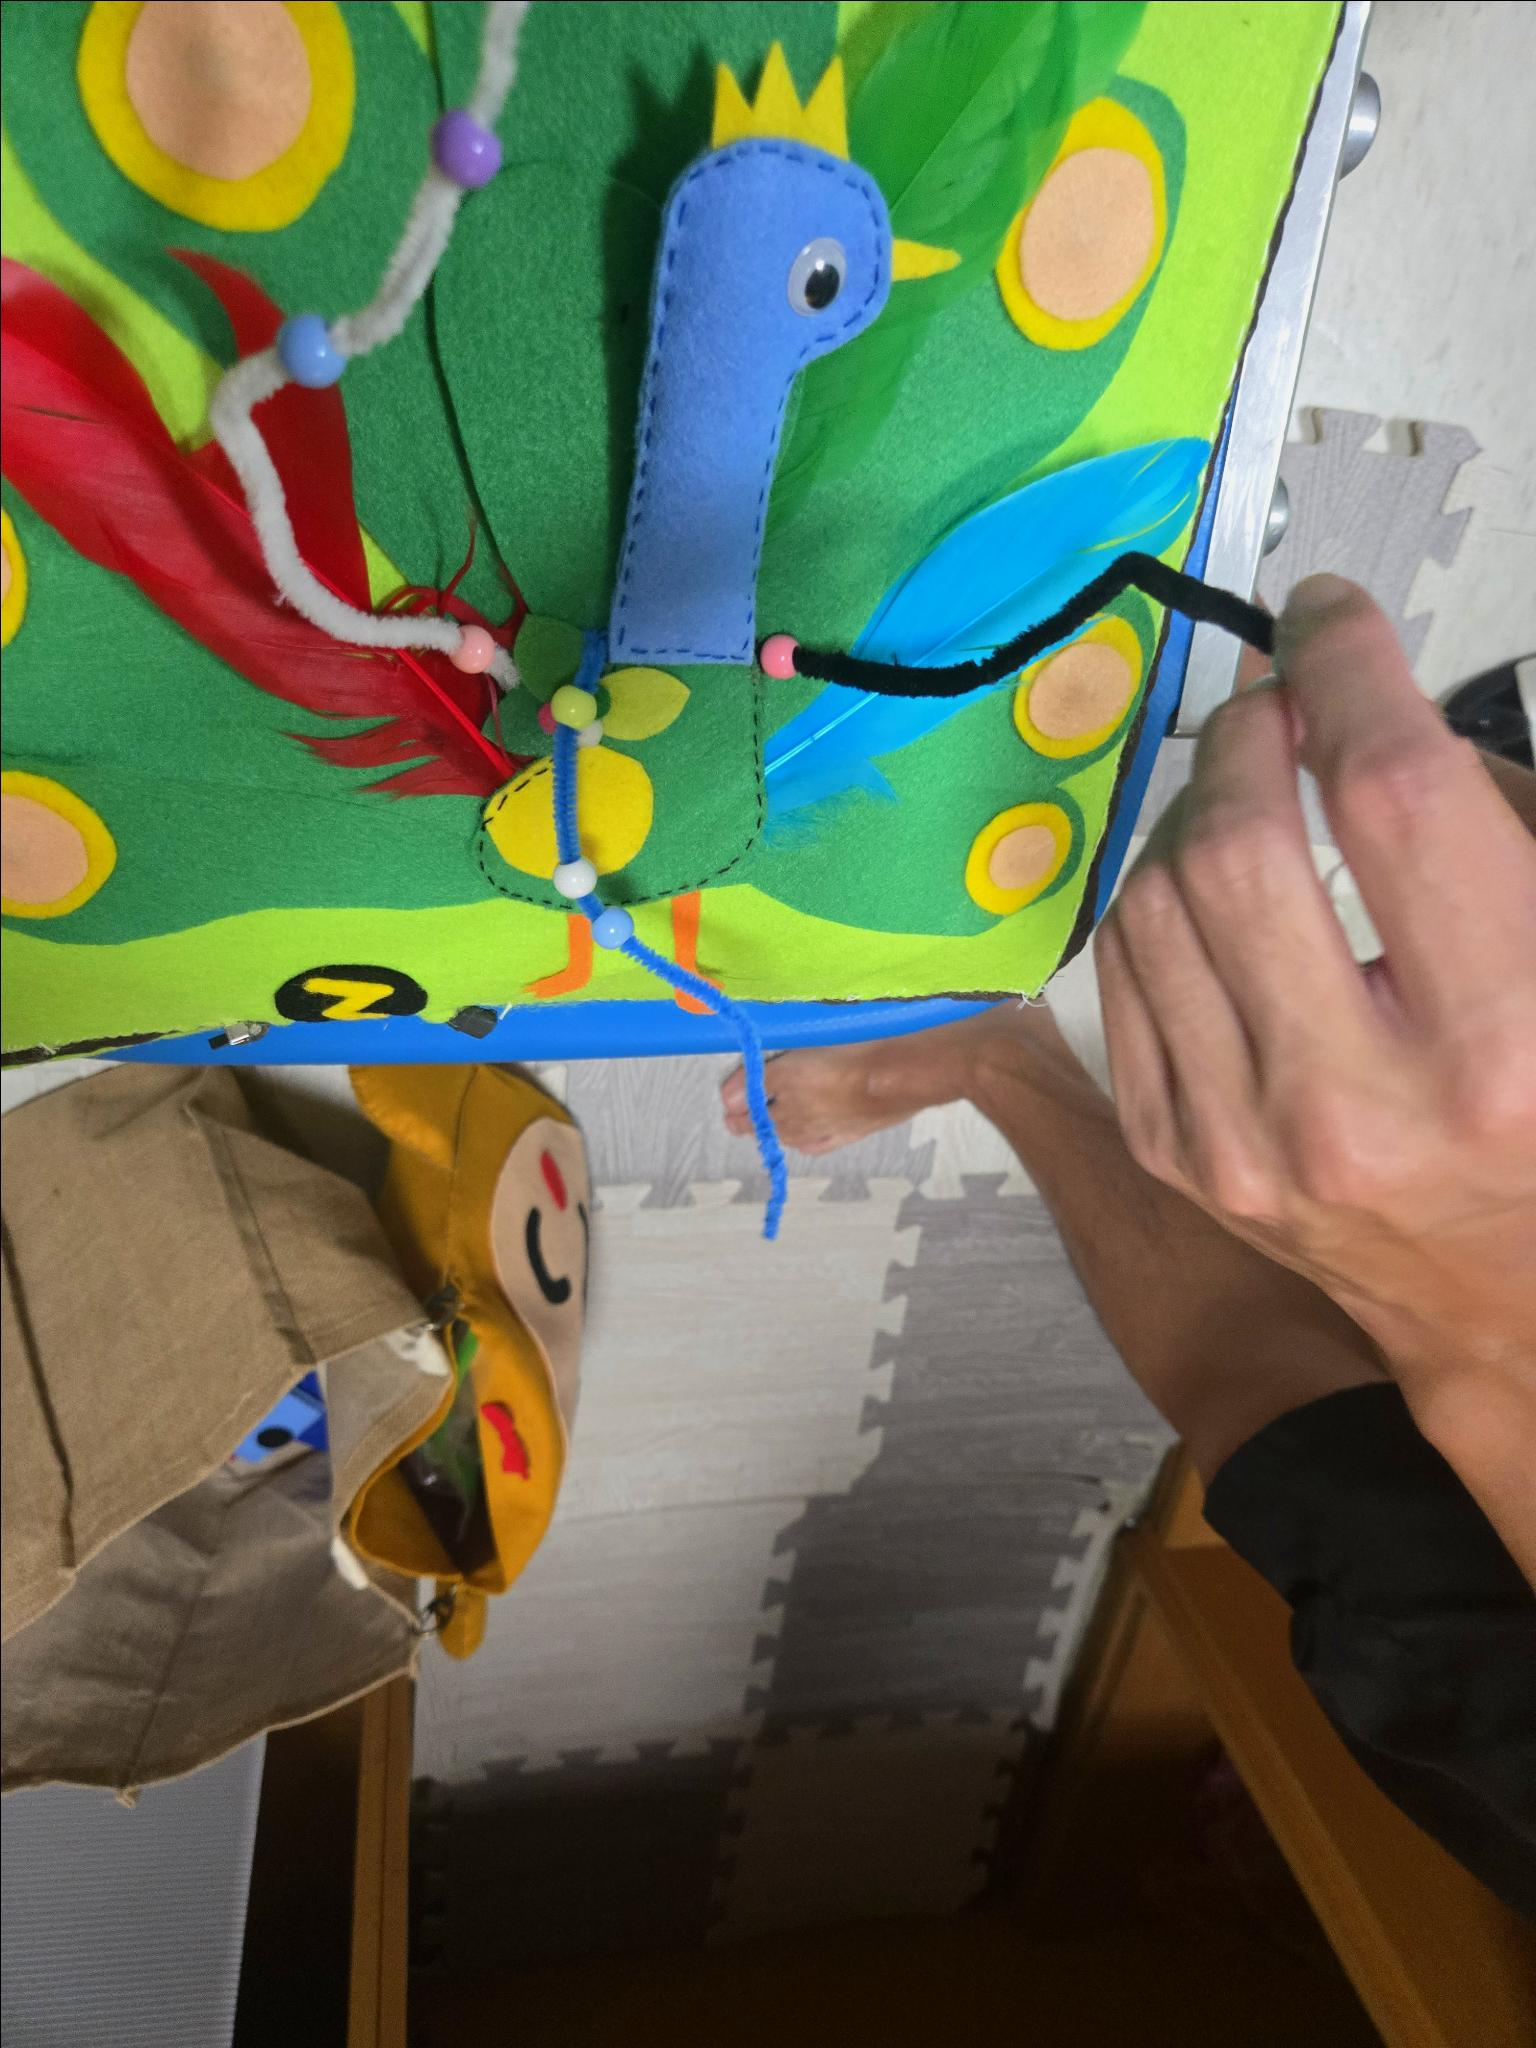bead: (262, 294, 346, 418), (420, 92, 510, 204), (435, 608, 501, 690), (538, 670, 608, 746), (748, 605, 804, 695), (542, 834, 600, 910), (579, 887, 637, 961)
